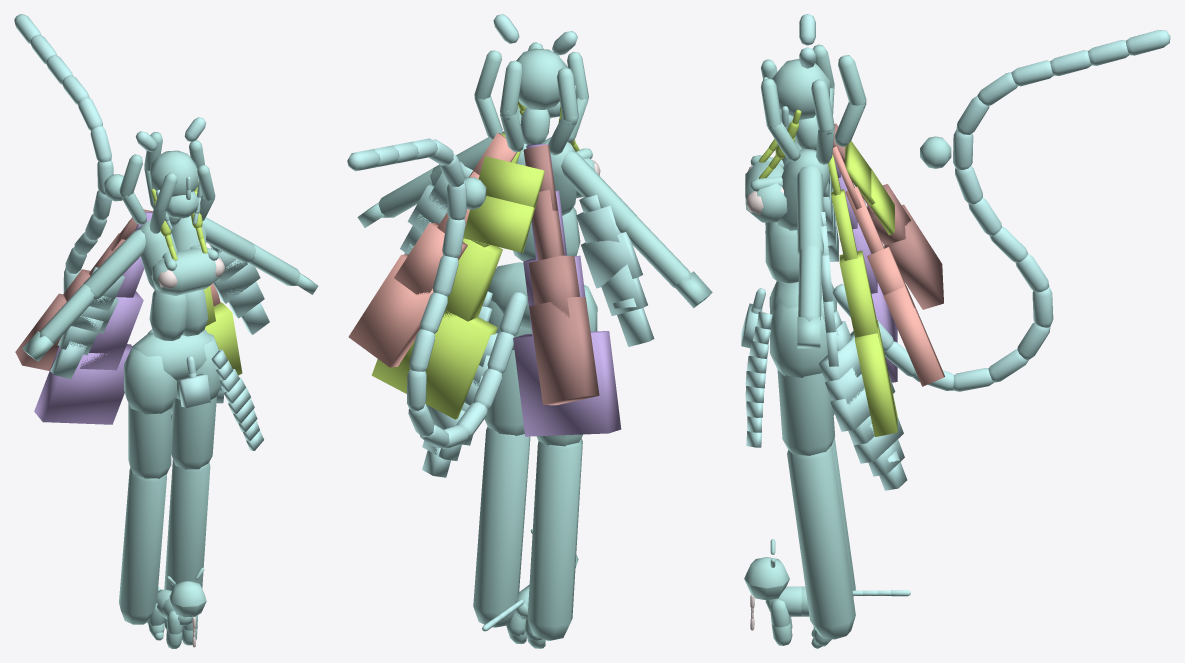
Rendered from Pardo_RigidBodyWorld.fbx.
3 renders of one model, left to right at view 1: azimuth 30°, elevation 25°; view 2: azimuth 150°, elevation 25°; view 3: azimuth 270°, elevation 25°, orthographic. The views are drawn at different scales.
Visible parts, largest first — view 1: 00E_右ひざ, 02G_Pardofelis_C1_Belt_XR_04, 00G_左ひざ, 00D_右足, 00F_左足, 00I_右足1, 02F_Pardofelis_C1_Belt_XR_03, 00C_下半身, 01E_上半身2, 003_右腕, 000_上半身, 00A_頭_1 (+30 smaller); view 2: 00E_右ひざ, 00G_左ひざ, 02G_Pardofelis_C1_Belt_XR_04, 028_Pardofelis_C1_Belt_SR_04, 02C_Pardofelis_C1_Belt_XL_04, 024_Pardofelis_C1_Belt_SL_04, 02I_Pardofelis_C1_Hat_02, 02B_Pardofelis_C1_Belt_XL_03, 02H_Pardofelis_C1_Hat_01, 00A_頭_1, 027_Pardofelis_C1_Belt_SR_03, 023_Pardofelis_C1_Belt_SL_03 (+40 smaller); view 3: 00G_左ひざ, 00F_左足, 028_Pardofelis_C1_Belt_SR_04, 02C_Pardofelis_C1_Belt_XL_04, 00J_左足1, 024_Pardofelis_C1_Belt_SL_04, 006_左腕, 02B_Pardofelis_C1_Belt_XL_03, 00A_頭_1, 00H_M-上半身, 007_左ひじ, 002_上半身2_2 (+40 smaller).
Part boxes in pixels (x1=…): 00E_右ひざ: x1=119, y1=468, x2=166, y2=624; 02G_Pardofelis_C1_Belt_XR_04: x1=34, y1=344, x2=132, y2=424; 00G_左ひざ: x1=164, y1=460, x2=210, y2=590; 00D_右足: x1=128, y1=403, x2=171, y2=478; 00F_左足: x1=171, y1=396, x2=216, y2=469; 00I_右足1: x1=124, y1=347, x2=176, y2=414; 02F_Pardofelis_C1_Belt_XR_03: x1=80, y1=291, x2=143, y2=370; 00C_下半身: x1=132, y1=330, x2=212, y2=382; 01E_上半身2: x1=151, y1=247, x2=222, y2=295; 003_右腕: x1=83, y1=229, x2=145, y2=300; 000_上半身: x1=149, y1=290, x2=186, y2=340; 00A_頭_1: x1=150, y1=150, x2=198, y2=196; 00E_右ひざ: x1=527, y1=438, x2=582, y2=641; 00G_左ひざ: x1=473, y1=426, x2=530, y2=627; 02G_Pardofelis_C1_Belt_XR_04: x1=513, y1=331, x2=621, y2=436; 028_Pardofelis_C1_Belt_SR_04: x1=529, y1=297, x2=599, y2=405; 02C_Pardofelis_C1_Belt_XL_04: x1=371, y1=311, x2=497, y2=419; 024_Pardofelis_C1_Belt_SL_04: x1=348, y1=254, x2=433, y2=367; 02I_Pardofelis_C1_Hat_02: x1=463, y1=196, x2=534, y2=252; 02B_Pardofelis_C1_Belt_XL_03: x1=443, y1=238, x2=502, y2=321; 02H_Pardofelis_C1_Hat_01: x1=478, y1=156, x2=544, y2=215; 00A_頭_1: x1=516, y1=48, x2=568, y2=109; 027_Pardofelis_C1_Belt_SR_03: x1=529, y1=255, x2=579, y2=317; 023_Pardofelis_C1_Belt_SL_03: x1=394, y1=222, x2=467, y2=294; 00G_左ひざ: x1=787, y1=446, x2=855, y2=639; 00F_左足: x1=777, y1=369, x2=834, y2=455; 028_Pardofelis_C1_Belt_SR_04: x1=884, y1=204, x2=943, y2=309; 02C_Pardofelis_C1_Belt_XL_04: x1=855, y1=320, x2=897, y2=436; 00J_左足1: x1=770, y1=302, x2=827, y2=377; 024_Pardofelis_C1_Belt_SL_04: x1=883, y1=286, x2=944, y2=386; 006_左腕: x1=796, y1=164, x2=823, y2=254; 02B_Pardofelis_C1_Belt_XL_03: x1=839, y1=250, x2=880, y2=344; 00A_頭_1: x1=772, y1=59, x2=829, y2=119; 00H_M-上半身: x1=765, y1=222, x2=799, y2=284; 007_左ひじ: x1=798, y1=246, x2=822, y2=321; 002_上半身2_2: x1=777, y1=148, x2=829, y2=230.
Size of the model in its own units: 98.25 by 107 by 169.
